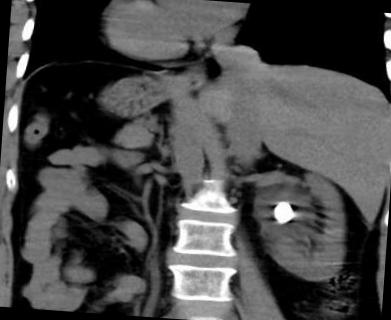Tas_Var: (270, 197, 296, 230)
